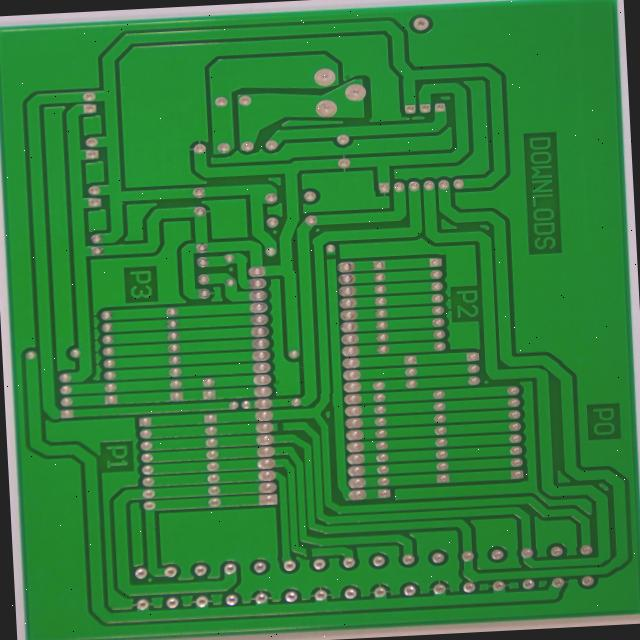open_circuit: (351, 530, 371, 549), (378, 204, 397, 220), (319, 393, 334, 408)
